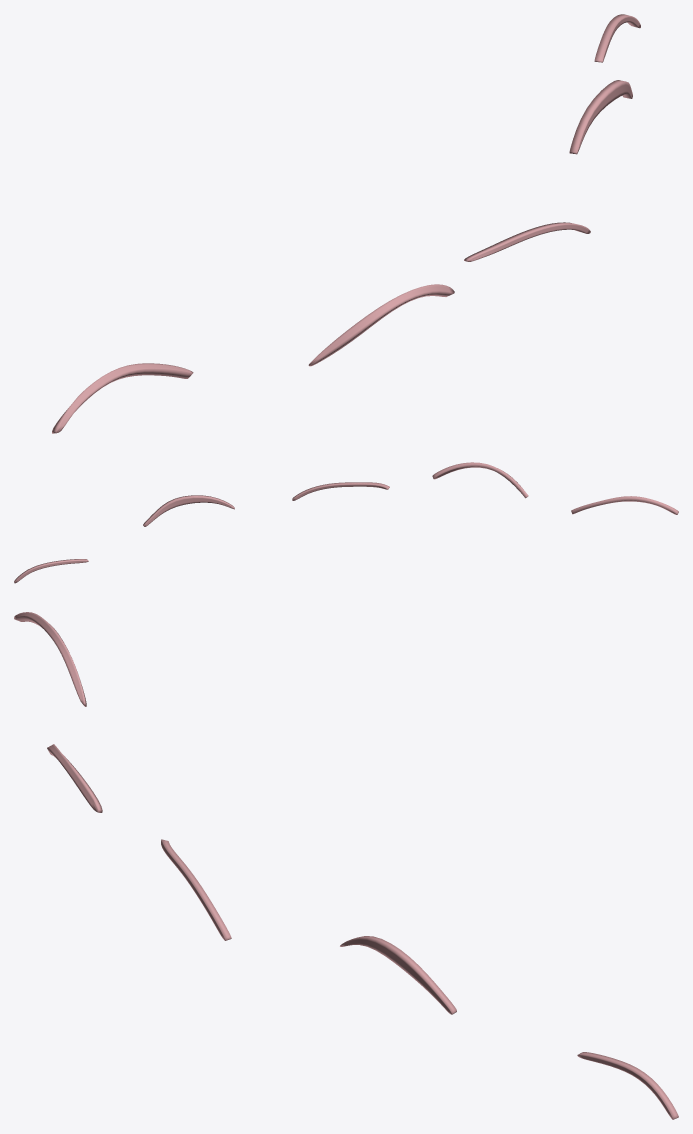
3 views of the same model, one above another, from view 1: azimuth 30°, elevation 25°; view 2: azimuth 150°, elevation 25°; view 3: azimuth 270°, elevation 25° (orthographic). The views are drawn at different scales.
Parts seen in each view (by area): view 1: ZA_34094b1534e2ce34; view 2: ZA_34094b1534e2ce34; view 3: ZA_34094b1534e2ce34.
Boxes of the visible parts, bbox=[...] form: ZA_34094b1534e2ce34: bbox=[52, 14, 640, 433]; ZA_34094b1534e2ce34: bbox=[14, 462, 678, 583]; ZA_34094b1534e2ce34: bbox=[14, 612, 678, 1119].
Size of the model in its own units: 0.0673 by 0.0087 by 0.0458.
